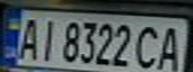2: (112, 20, 136, 70), (93, 19, 118, 66)
3: (78, 18, 100, 65)
8: (57, 17, 81, 64)
A: (154, 22, 187, 72), (12, 15, 45, 61)
C: (133, 21, 163, 71)
I: (33, 16, 60, 62)
